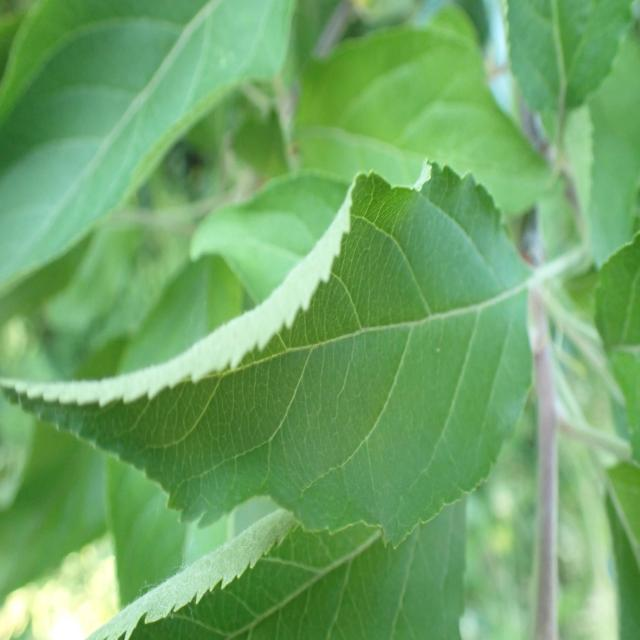healthy: (1, 158, 535, 548), (0, 0, 295, 295), (289, 7, 559, 217), (115, 495, 467, 640), (503, 0, 636, 115), (593, 231, 640, 466)
